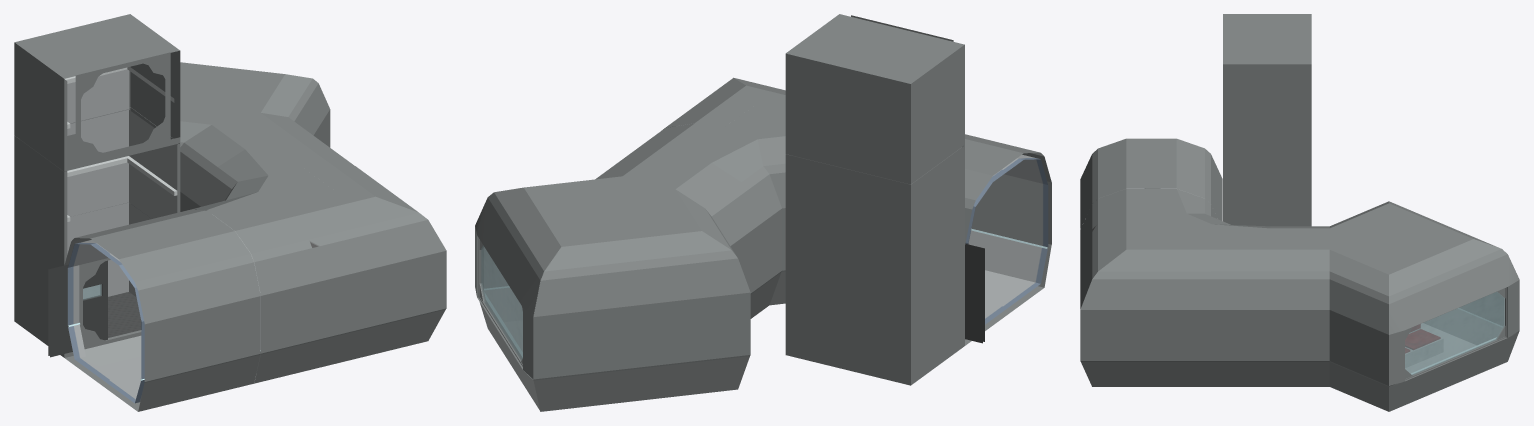
The model's file is jesuspodmetlift.fbx.
3 renders of one model, left to right at view 1: azimuth 30°, elevation 25°; view 2: azimuth 150°, elevation 25°; view 3: azimuth 270°, elevation 25°, orthographic. The views are drawn at different scales.
Visible parts, largest first — view 1: Building.002, jesus pod part 1, Building.001; view 2: Building.002, Building.001, jesus pod part 1; view 3: jesus pod part 1, Building.002, Building.001.
Part boxes in pixels (x1,y1,x2,y2): Building.002: (14, 14, 260, 411); jesus pod part 1: (180, 62, 446, 369); Building.001: (129, 78, 336, 383); Building.002: (785, 14, 1051, 385); Building.001: (533, 103, 785, 411); jesus pod part 1: (475, 77, 785, 410); jesus pod part 1: (1080, 214, 1519, 411); Building.002: (1080, 14, 1311, 228); Building.001: (1080, 189, 1518, 364).
Size of the model in its own units: 1621 by 1154 by 1850.
